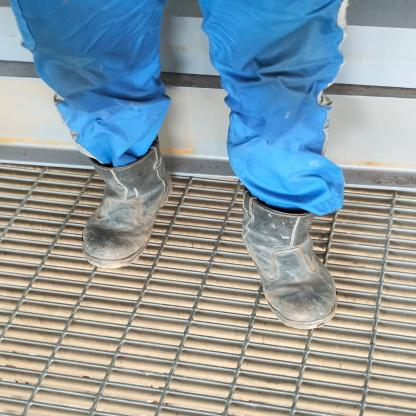bota: (239, 188, 343, 332), (82, 132, 175, 272)
